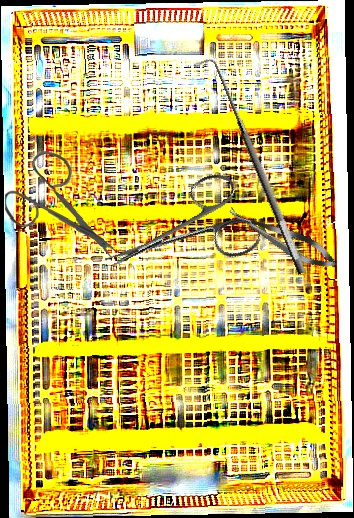Hook Surgical: (192, 51, 310, 282)
Iris Scissors: (93, 166, 265, 304), (3, 149, 121, 260)
Micro Scissor: (224, 200, 341, 276)
